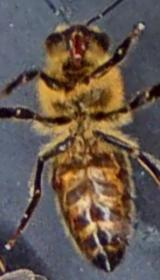varroa_mite: (47, 172, 64, 192)
